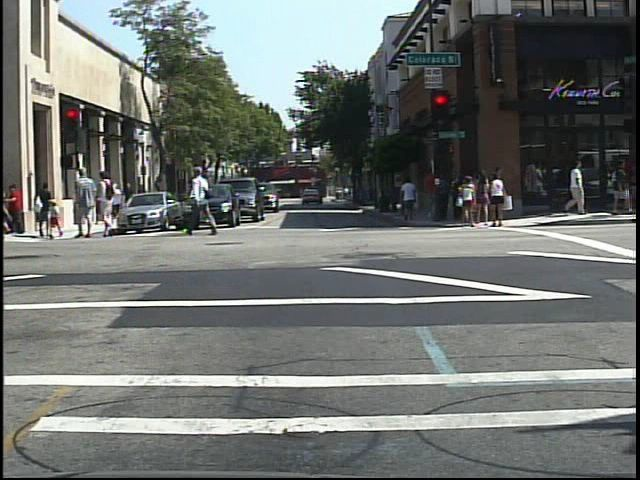person: (187, 164, 219, 237), (69, 164, 98, 243), (97, 167, 121, 239)
